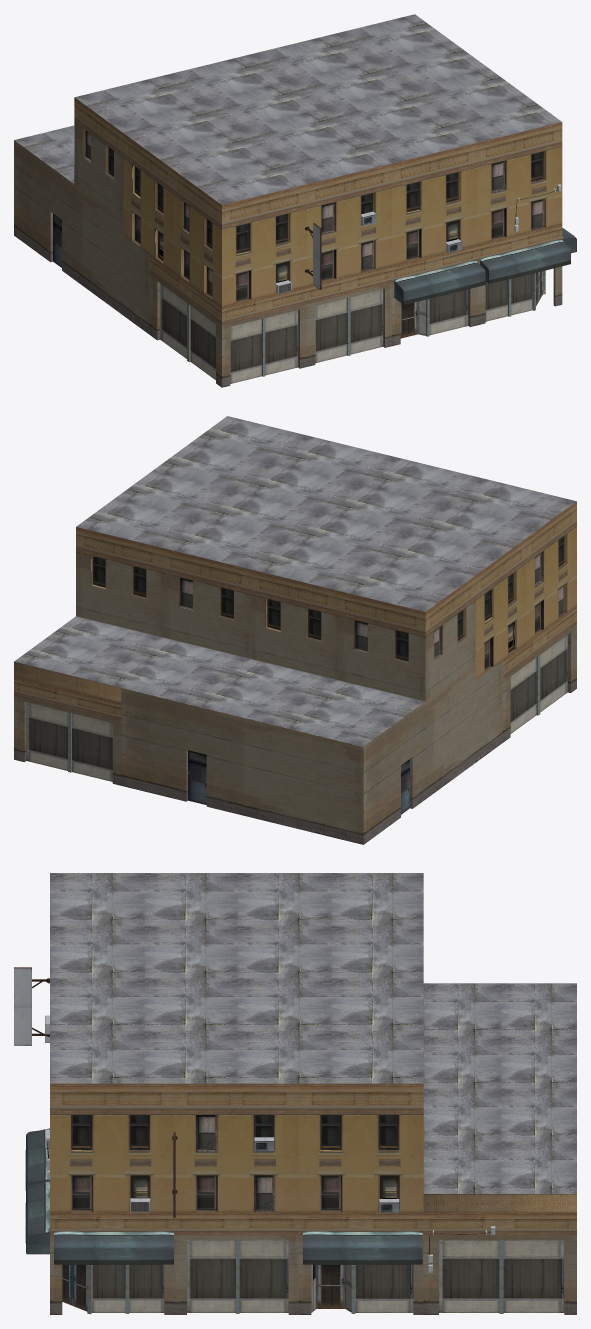
File: Building10.glb
The picture shows the model from 3 angles, top to bottom: view 1: azimuth 30°, elevation 25°; view 2: azimuth 150°, elevation 25°; view 3: azimuth 270°, elevation 25°; orthographic projection. The views are drawn at different scales.
Visible parts, largest first — view 1: Brownstone_Commercial_1_Brownstone_Facade_Flr_5_0, Brownstone_Commercial_1_Midcity_Facade_FLR_1_0; view 2: Brownstone_Commercial_1_Brownstone_Facade_Flr_5_0, Brownstone_Commercial_1_Midcity_Facade_FLR_1_0; view 3: Brownstone_Commercial_1_Brownstone_Facade_Flr_5_0, Brownstone_Commercial_1_Midcity_Facade_FLR_1_0.
Part boxes in pixels (x1,y1,x2,y2): Brownstone_Commercial_1_Brownstone_Facade_Flr_5_0: [14, 14, 562, 387]; Brownstone_Commercial_1_Midcity_Facade_FLR_1_0: [53, 184, 576, 383]; Brownstone_Commercial_1_Brownstone_Facade_Flr_5_0: [14, 416, 576, 844]; Brownstone_Commercial_1_Midcity_Facade_FLR_1_0: [26, 635, 567, 814]; Brownstone_Commercial_1_Brownstone_Facade_Flr_5_0: [50, 873, 576, 1314]; Brownstone_Commercial_1_Midcity_Facade_FLR_1_0: [14, 967, 564, 1314].
Bounding box in the file's own units: 21.73 × 10.39 × 22.91.
Materials: 2 (2 with a texture image).
